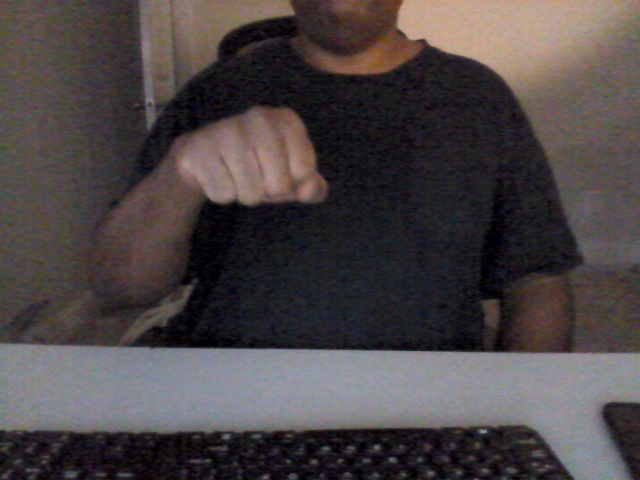yes: (173, 102, 337, 210)
